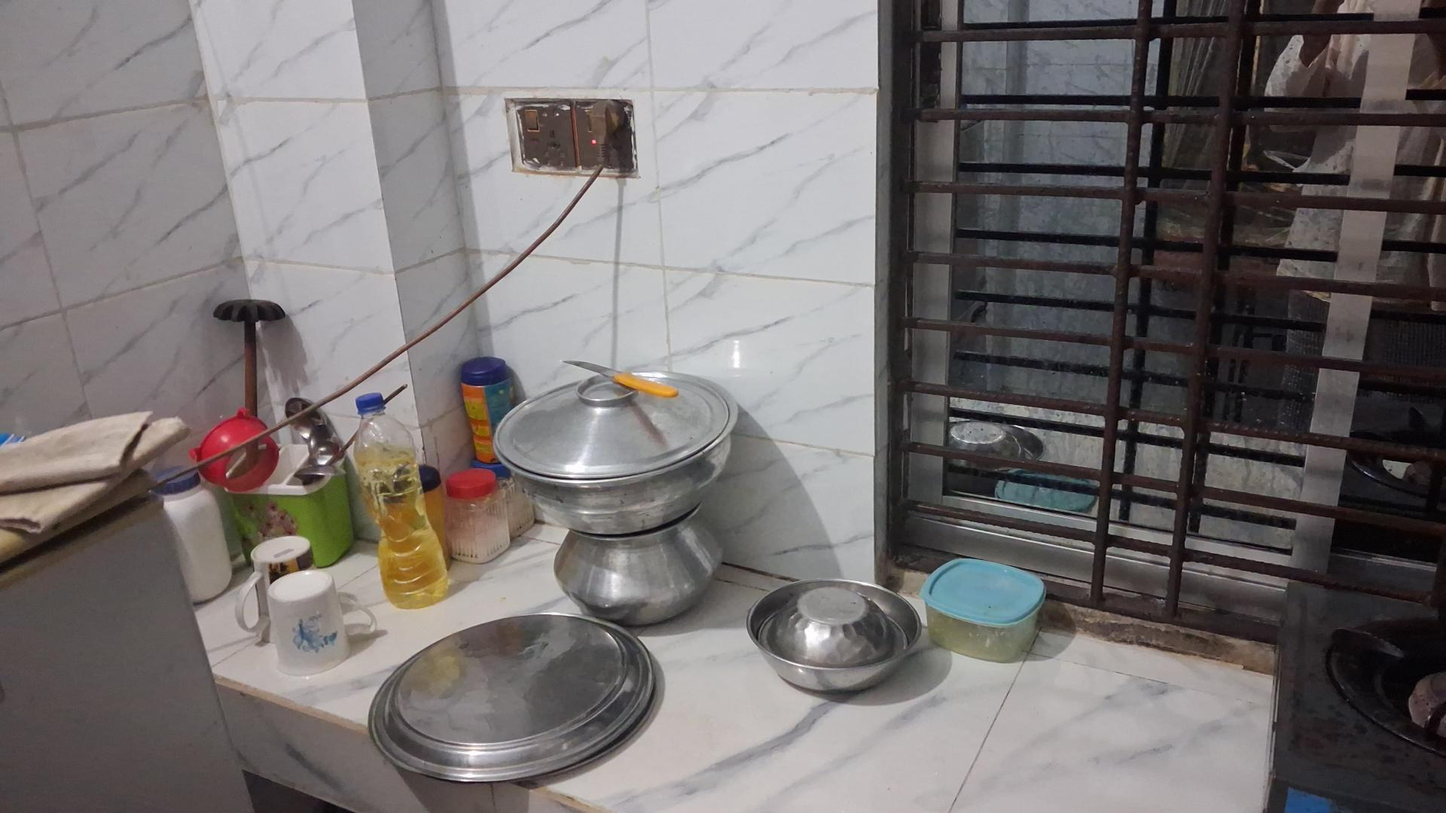Bottle: (350, 390, 451, 603)
Bowl: (749, 561, 918, 706)
Cup: (268, 576, 377, 661)
Jar: (929, 550, 1040, 665), (459, 359, 518, 460), (441, 468, 501, 556)
Knife: (562, 353, 675, 402)
Plate: (366, 611, 658, 779)
Pot: (497, 383, 736, 540), (550, 523, 728, 619)
